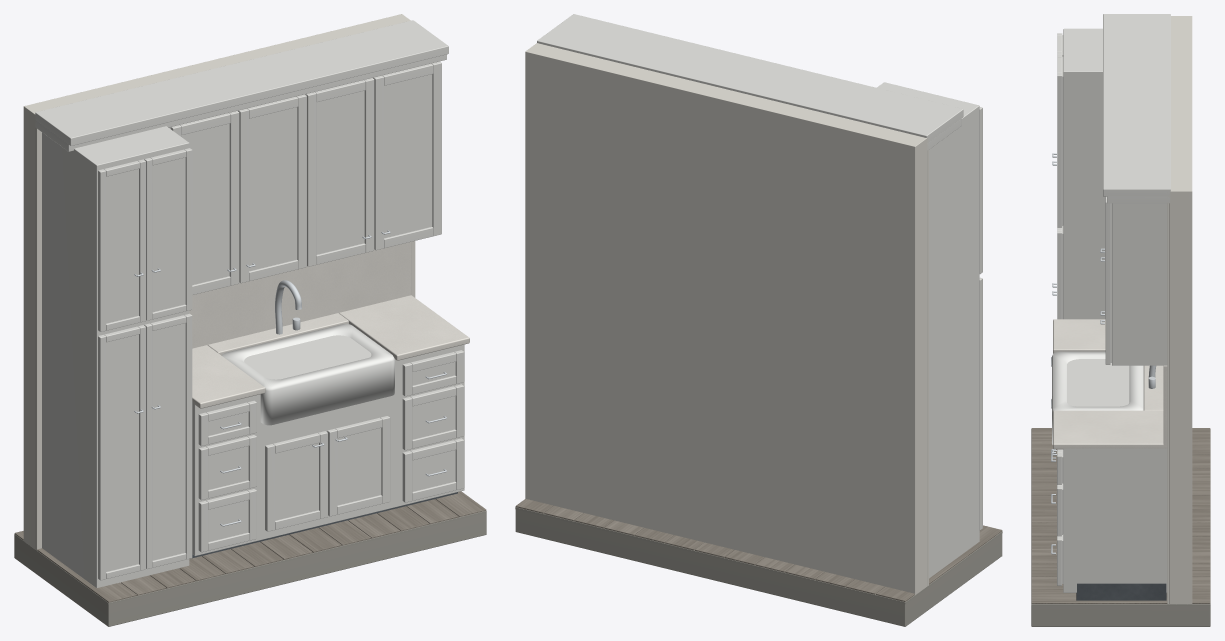
Rendered from capitol-hill-condo-kitchen-renovation.glb.
The picture shows the model from 3 angles, left to right: view 1: azimuth 30°, elevation 25°; view 2: azimuth 150°, elevation 25°; view 3: azimuth 270°, elevation 25°; orthographic projection. The views are drawn at different scales.
Parts seen in each view (by area): view 1: Shaker upper doors · inset, Ceiling-height pantry carcass, Pantry doors · inset, Crown top step, Pantry doors · stile, Shaker upper doors · stile, Sink base cabinets, Full-height quartz splash, Grey plank floor · foundation, Kitchen wall · wall core, Grey plank floor · tile, 30-inch fireclay apron sink (+13 smaller); view 2: Kitchen wall · wall core, Ceiling-height pantry carcass, Crown top step, Grey plank floor · foundation, Grey plank floor · tile, Pantry doors · stile, Grey plank floor · joints; view 3: Sink base cabinets, Kitchen wall · wall core, Crown top step, Ceiling-height pantry carcass, Upper cabinet carcass, Grey plank floor · tile, White quartz counter, Grey plank floor · foundation, 30-inch fireclay apron sink, Cabinet toe kick, Pantry doors · stile, Shaker upper doors · stile (+9 smaller).
Part boxes in pixels (box(x1,y1,x2,y2)): Shaker upper doors · inset: box(181, 74, 432, 284); Ceiling-height pantry carcass: box(42, 126, 189, 587); Pantry doors · inset: box(106, 157, 185, 571); Crown top step: box(35, 20, 448, 145); Pantry doors · stile: box(98, 148, 192, 580); Shaker upper doors · stile: box(170, 61, 441, 285); Sink base cabinets: box(192, 335, 464, 555); Full-height quartz splash: box(189, 241, 411, 348); Grey plank floor · foundation: box(14, 513, 486, 626); Kitchen wall · wall core: box(23, 14, 410, 549); Grey plank floor · tile: box(14, 491, 486, 602); 30-inch fireclay apron sink: box(222, 324, 394, 425); Kitchen wall · wall core: box(525, 43, 927, 594); Ceiling-height pantry carcass: box(877, 82, 979, 578); Crown top step: box(537, 14, 963, 142); Grey plank floor · foundation: box(515, 509, 1002, 626); Grey plank floor · tile: box(515, 499, 1002, 601); Pantry doors · stile: box(979, 107, 982, 530); Grey plank floor · joints: box(515, 507, 1002, 604); Sink base cabinets: box(1063, 359, 1167, 592); Kitchen wall · wall core: box(1169, 16, 1192, 604); Crown top step: box(1103, 14, 1170, 196); Ceiling-height pantry carcass: box(1063, 28, 1105, 319); Upper cabinet carcass: box(1112, 203, 1167, 365); Grey plank floor · tile: box(1031, 428, 1210, 603); White quartz counter: box(1053, 319, 1167, 449); Grey plank floor · foundation: box(1031, 605, 1210, 626); 30-inch fireclay apron sink: box(1052, 351, 1143, 444); Cabinet toe kick: box(1076, 583, 1166, 600); Pantry doors · stile: box(1057, 33, 1062, 319); Shaker upper doors · stile: box(1105, 198, 1110, 364).
Bounding box in the file's own units: 2.2 × 2.56 × 0.95.
9 materials, 3 textured.
